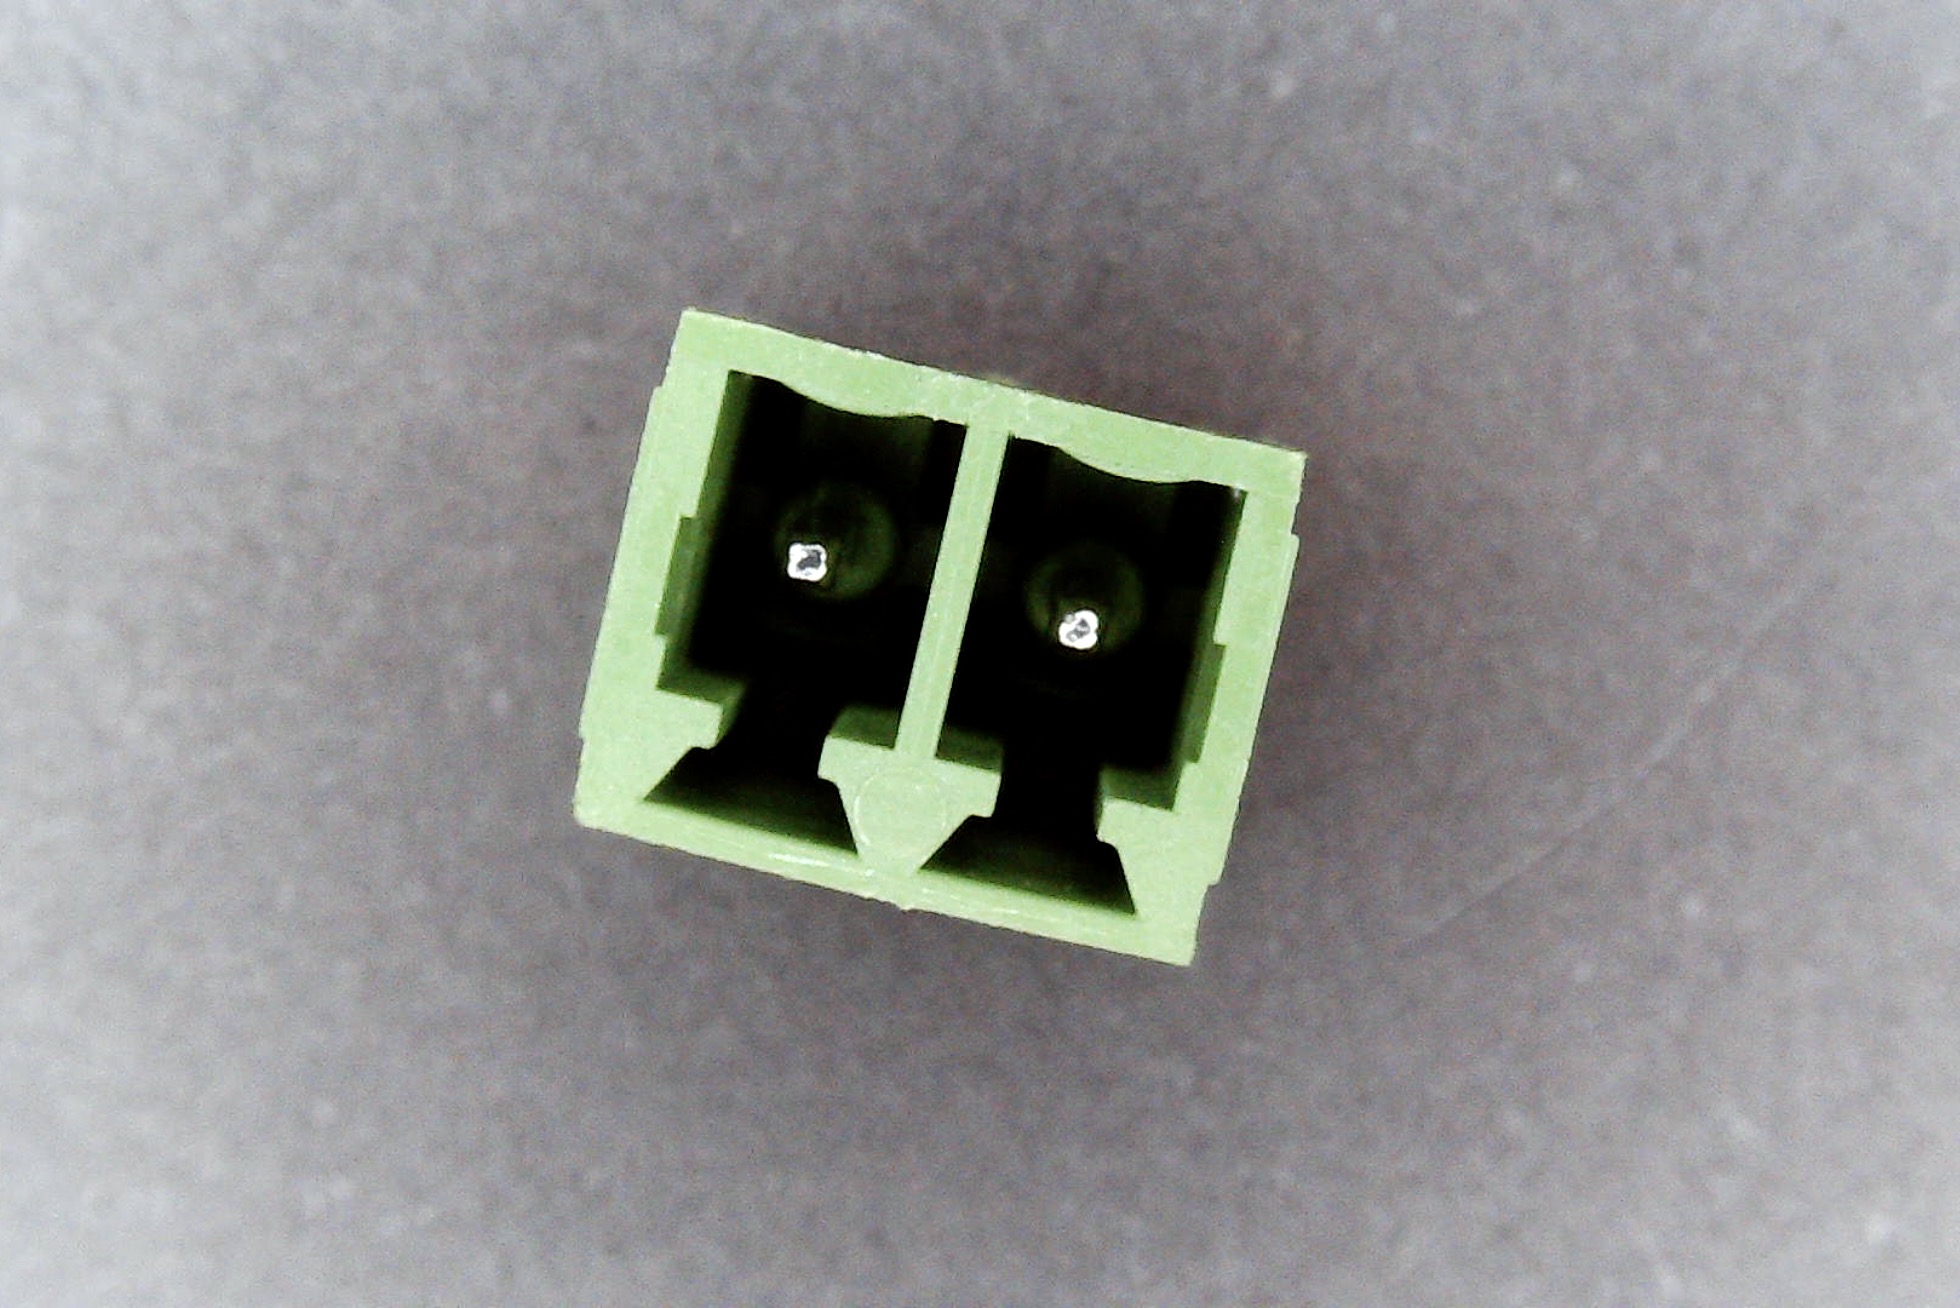bbox: (571, 309, 1308, 977)
